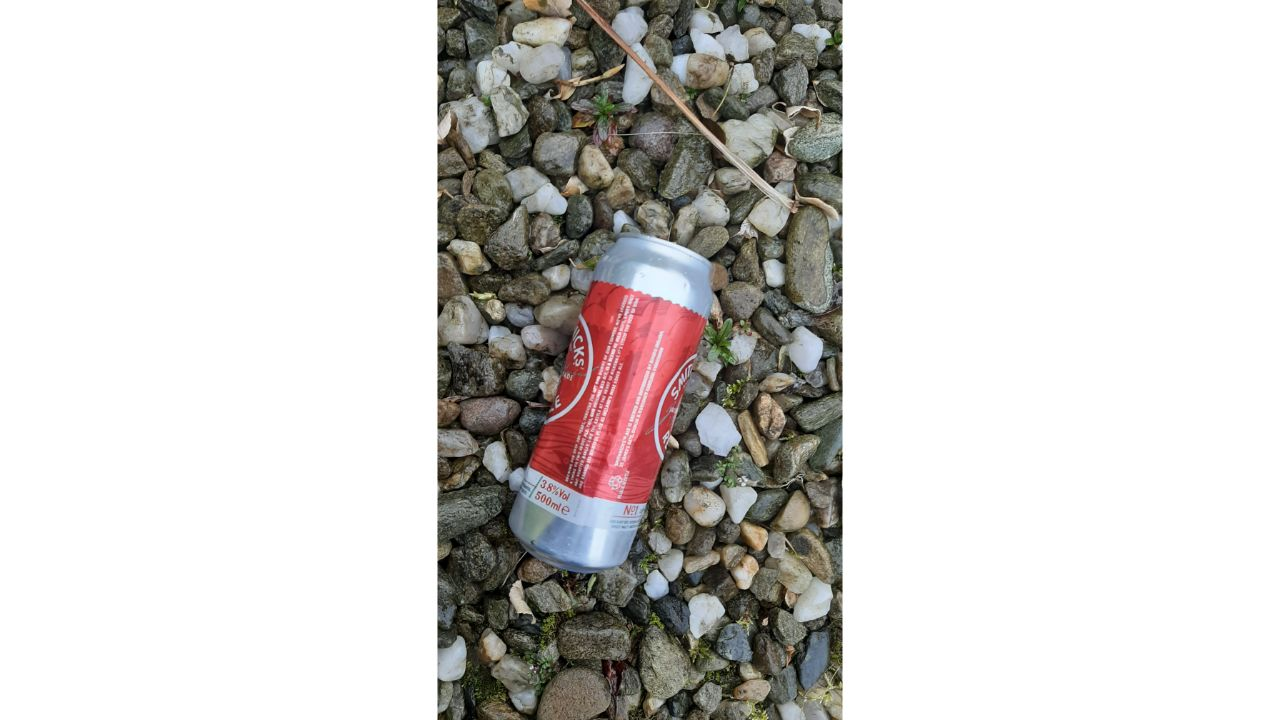Can: (508, 227, 715, 575)
